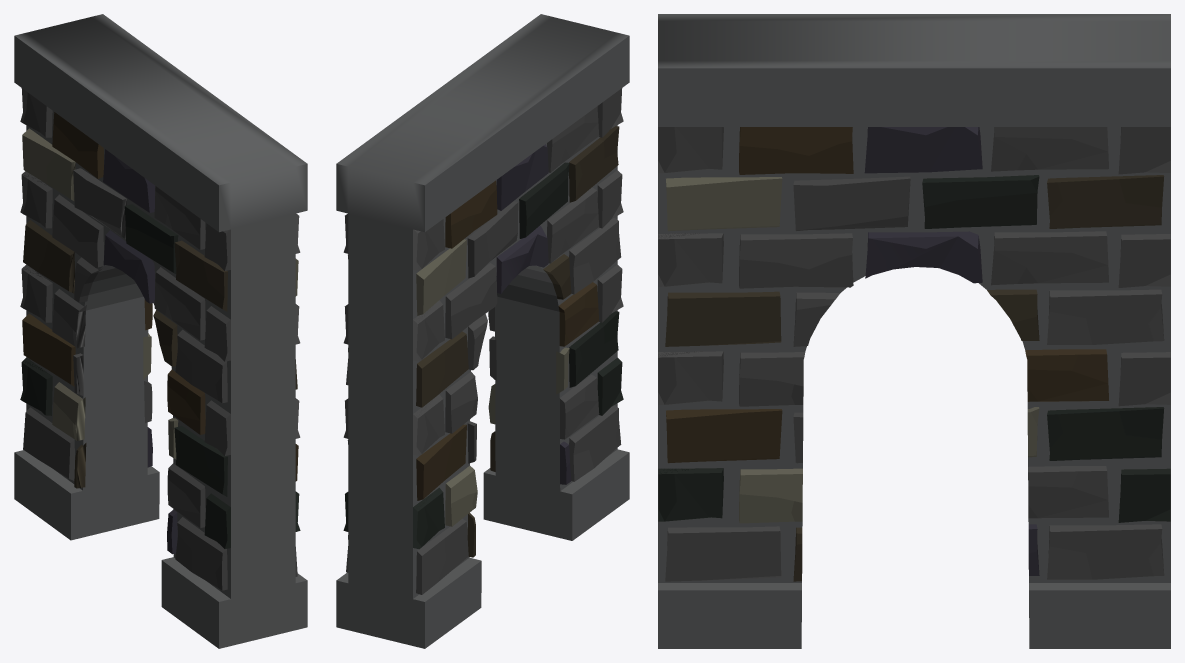
Rendered from Doorframe.fbx.
3 views of the same model, side by side, from view 1: azimuth 30°, elevation 25°; view 2: azimuth 150°, elevation 25°; view 3: azimuth 270°, elevation 25° (orthographic). The views are drawn at different scales.
Visible parts, largest first — view 1: WallWithDoor; view 2: WallWithDoor; view 3: WallWithDoor.
Part boxes in pixels (left/top/right/bottom): WallWithDoor: left=14, top=14, right=307, bottom=648; WallWithDoor: left=336, top=14, right=629, bottom=648; WallWithDoor: left=658, top=14, right=1170, bottom=648.
Size of the model in its own units: 100 by 500 by 400.
